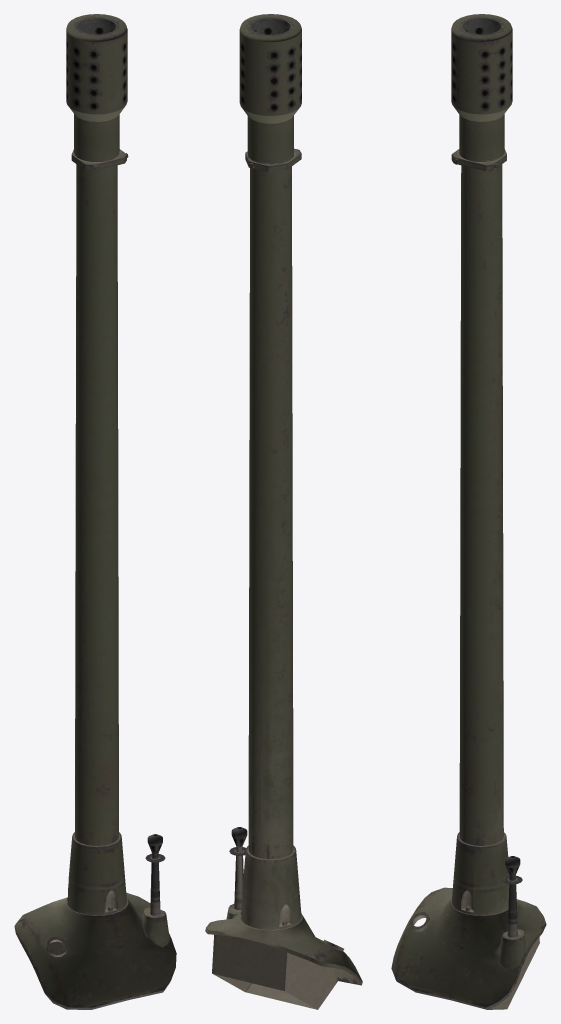
The model's file is Gun_02.glb.
The picture shows the model from 3 angles, left to right: view 1: azimuth 30°, elevation 25°; view 2: azimuth 150°, elevation 25°; view 3: azimuth 330°, elevation 25°; orthographic projection.
Parts seen in each view (by area): view 1: set_0_group_0; view 2: set_0_group_0; view 3: set_0_group_0.
Part boxes in pixels (<box>): set_0_group_0: <box>14,14,176,1009</box>; set_0_group_0: <box>205,14,362,1009</box>; set_0_group_0: <box>391,14,546,1009</box>.
Size of the model in its own units: 0.7626 by 5.54 by 0.5619.
Materials: 1 (1 with a texture image).
